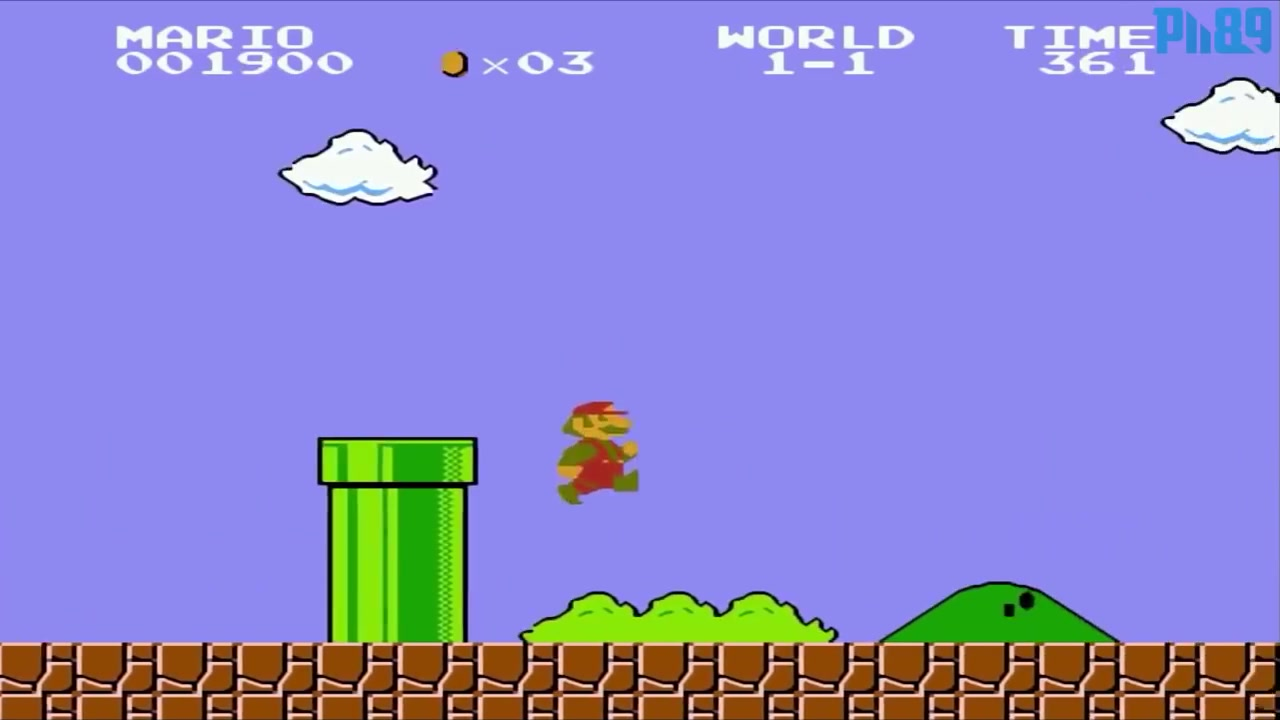mario: (552, 393, 651, 510)
